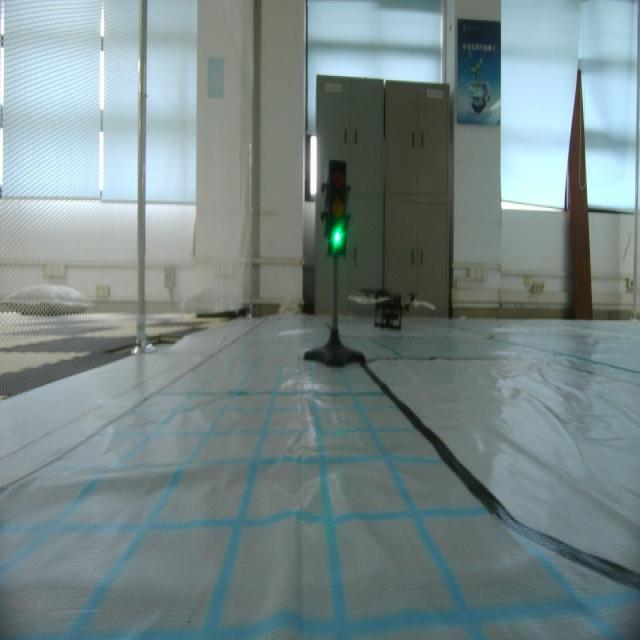green: (326, 165, 351, 264)
